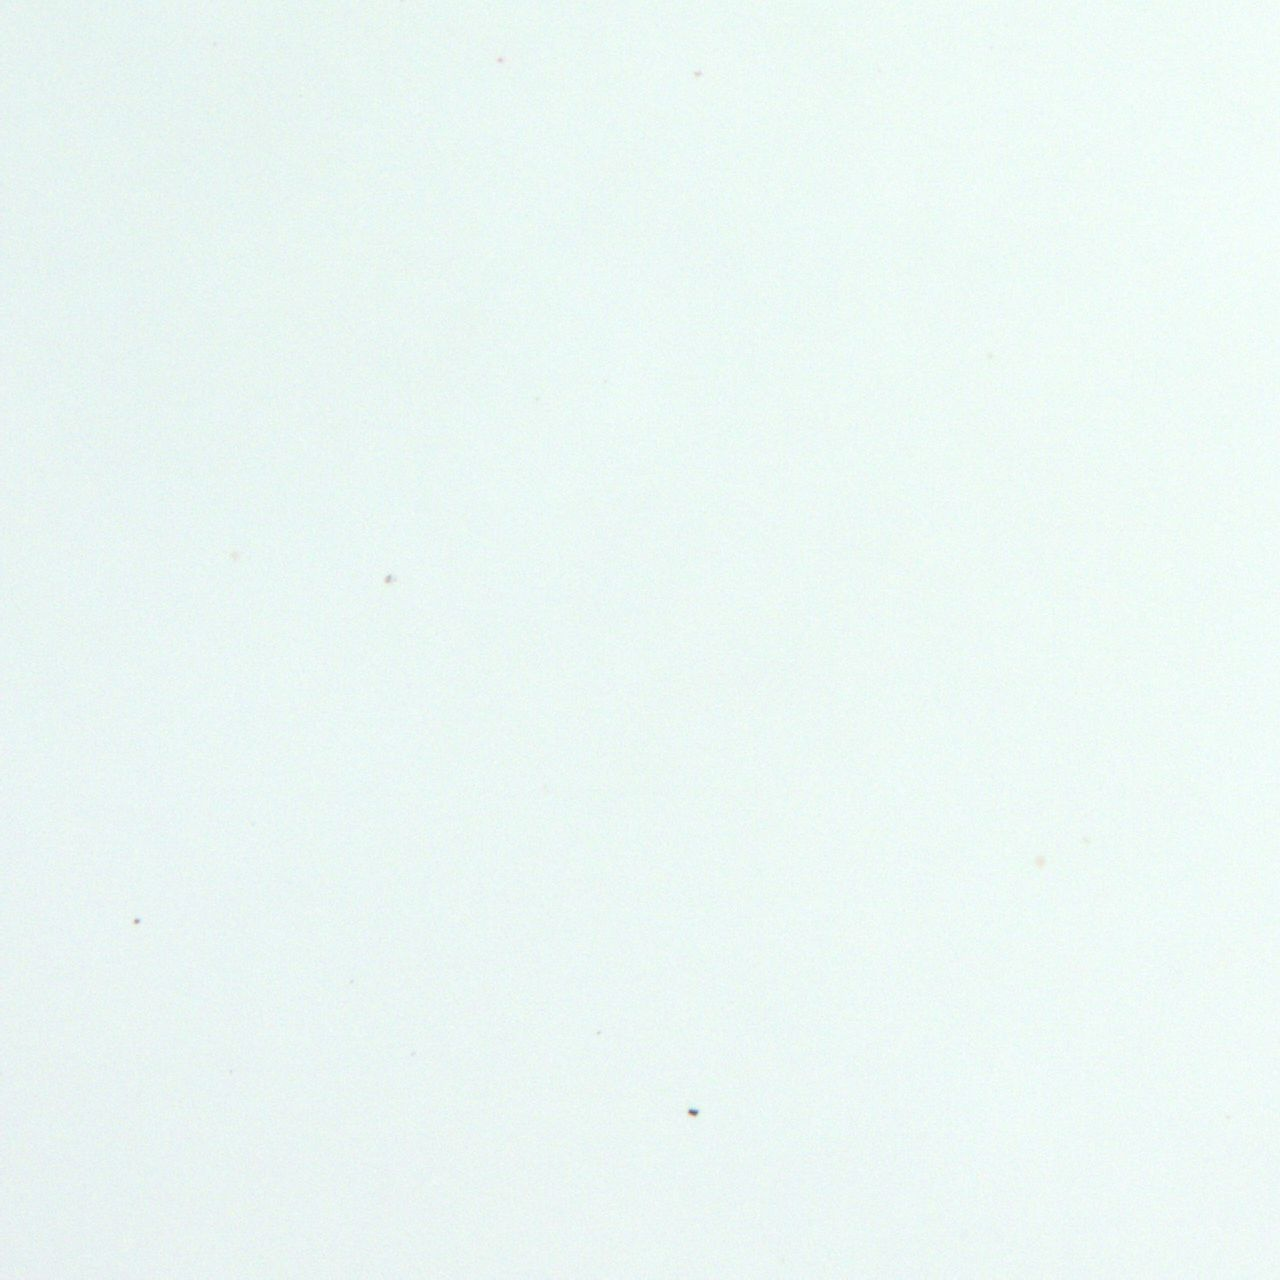dust: (685, 1105, 700, 1125), (379, 570, 400, 584), (131, 914, 144, 930), (693, 66, 704, 79), (493, 56, 505, 64)
